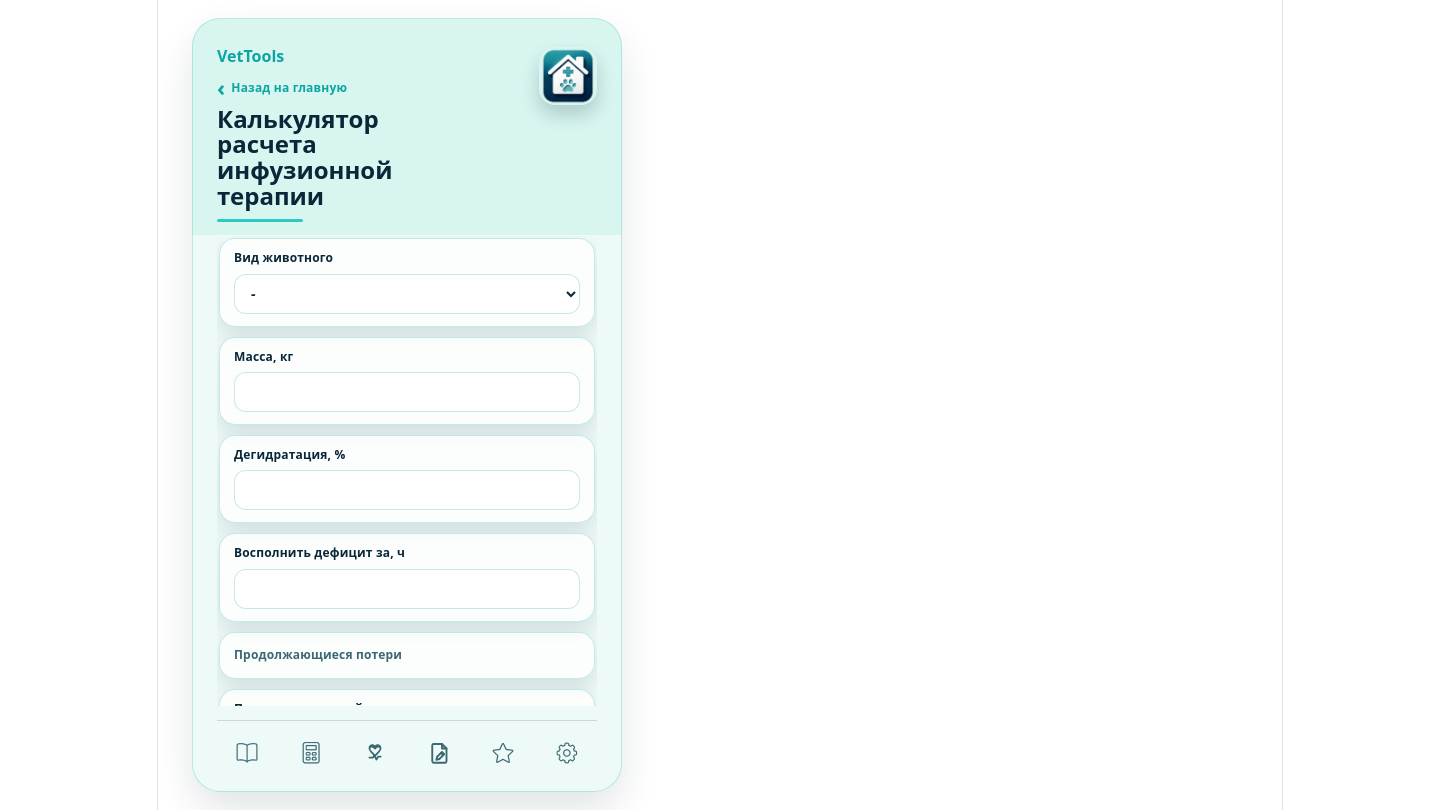
it: IpscalcPage › keeps replacement hours as integer input
In the number field labelled "Восполнить дефицит за, ч": (407, 589) [234,569,580,609], type "12.5"
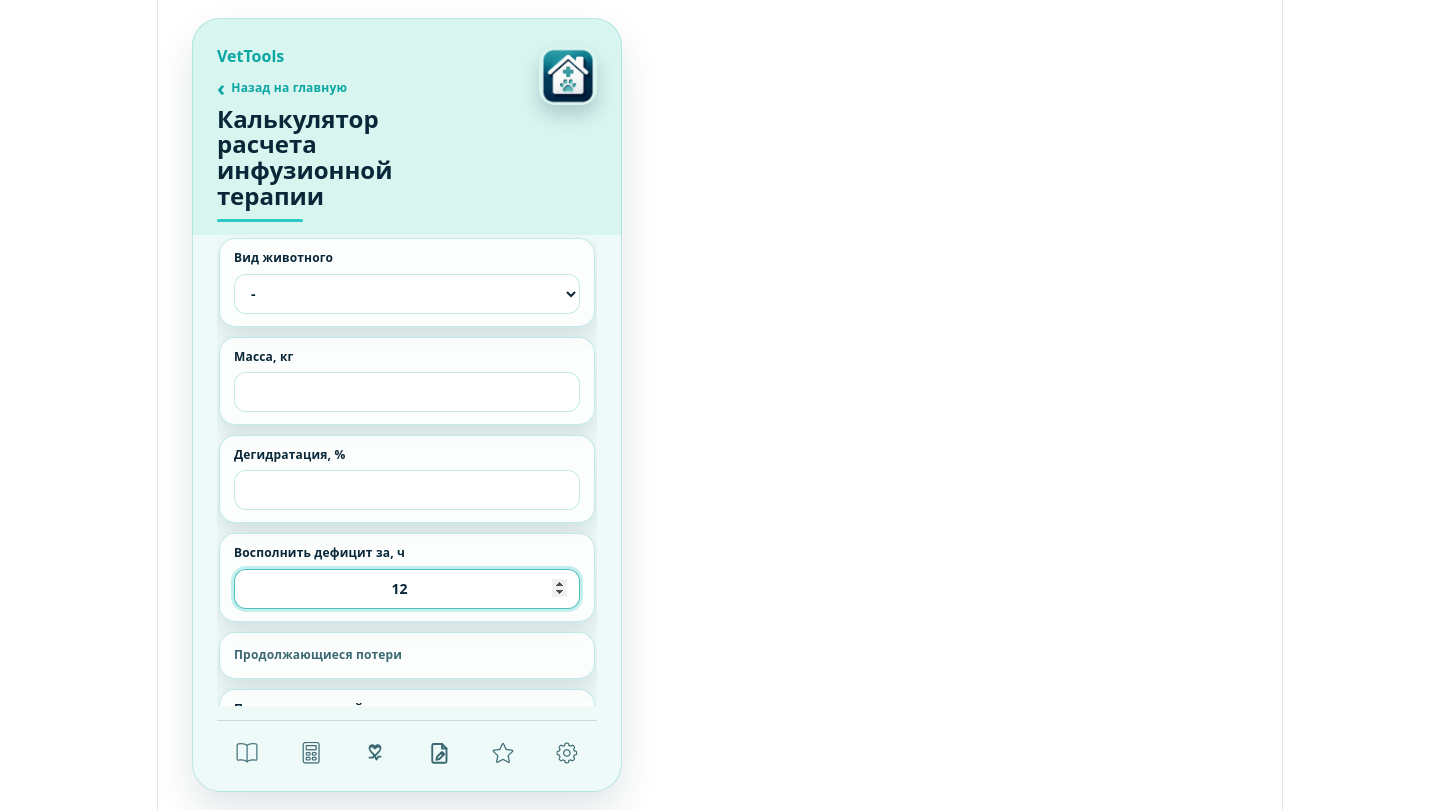
Check: the number field labelled "Восполнить дефицит за, ч" holds "12", box [234,569,580,609]
